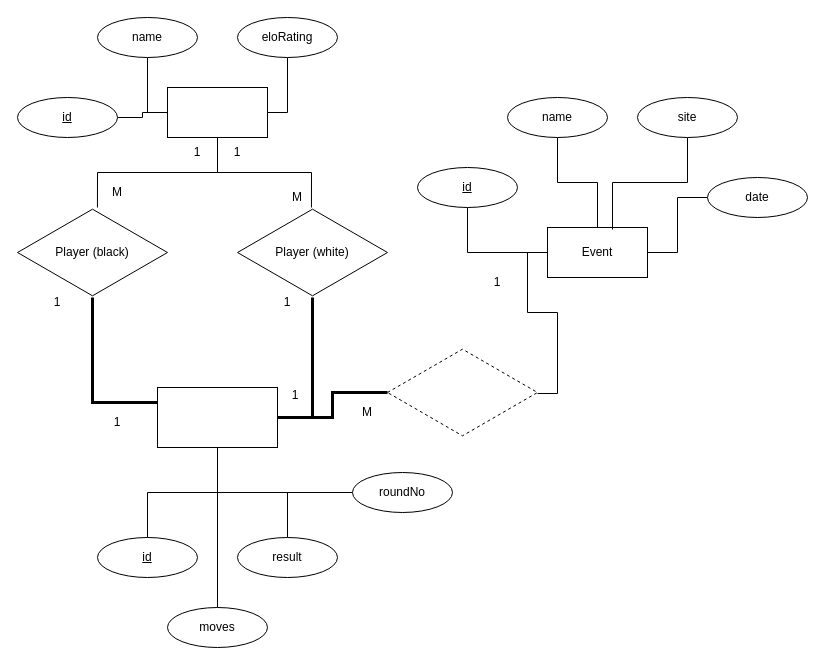
Some shapes in this 825 by 665 pixel diagram are drawn without their labels. Here are the shapes that lost their labels. From the top down, the box of each, then its label:
(166, 86, 268, 138): Player
(386, 346, 538, 438): host
(156, 386, 278, 448): Game
